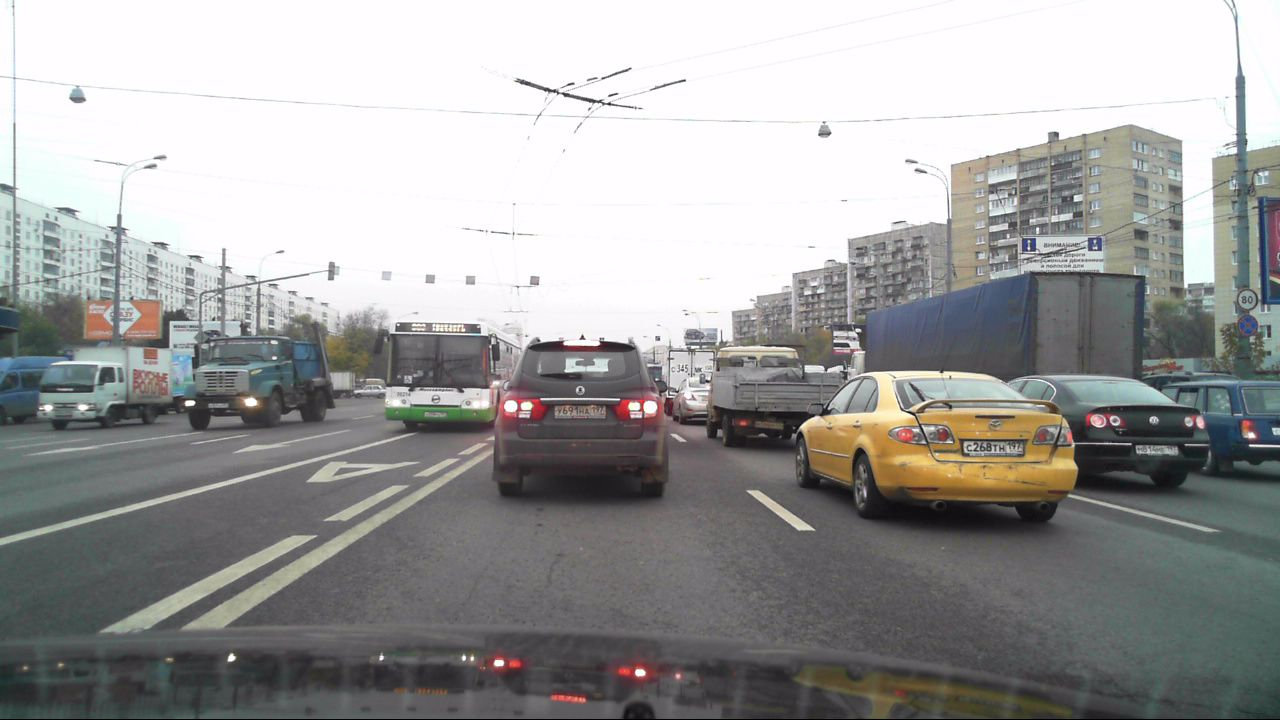No Parking: (1235, 315, 1258, 337)
